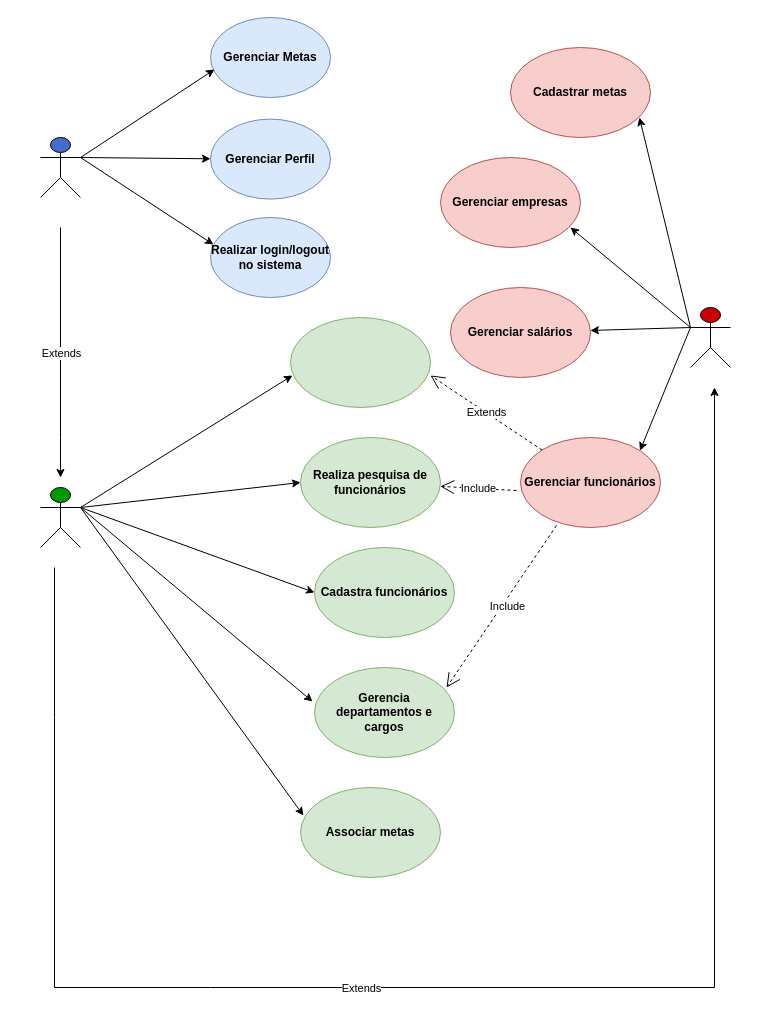
Image size: 757x1013. Some labels were removed from this diagram. Here are the shapes that lost their labels. From the top down, the centre of each, then its label:
[60,167]: Usuário Comum
[710,337]: Gestão RH
[360,362]: Gerencia usuário comum
[60,517]: Operacional RH
